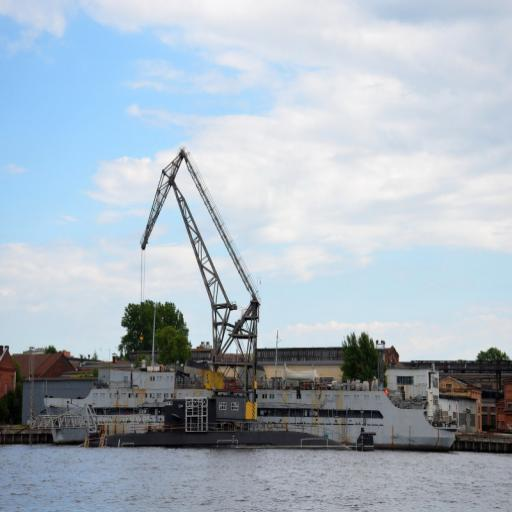submarine: (87, 409, 349, 447)
